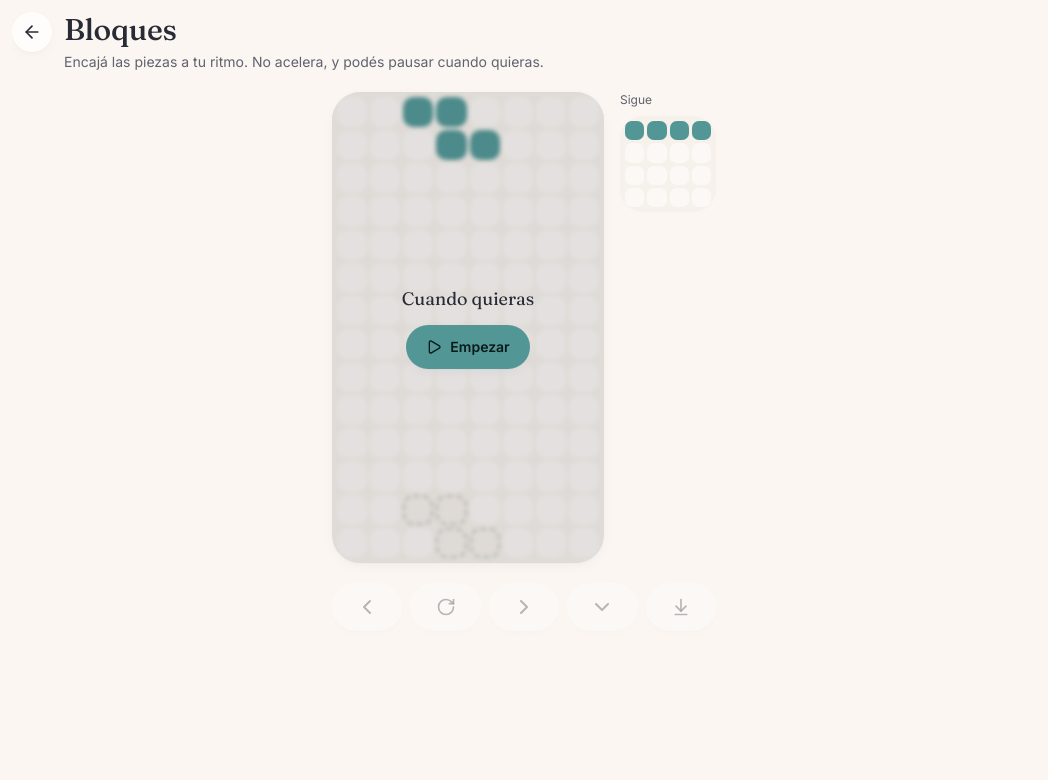
Test case: BlocksGamePage › falls at a constant pace once started
Click the button "Empezar": (468, 347) [406, 325, 530, 369]
Wait 2550 ms
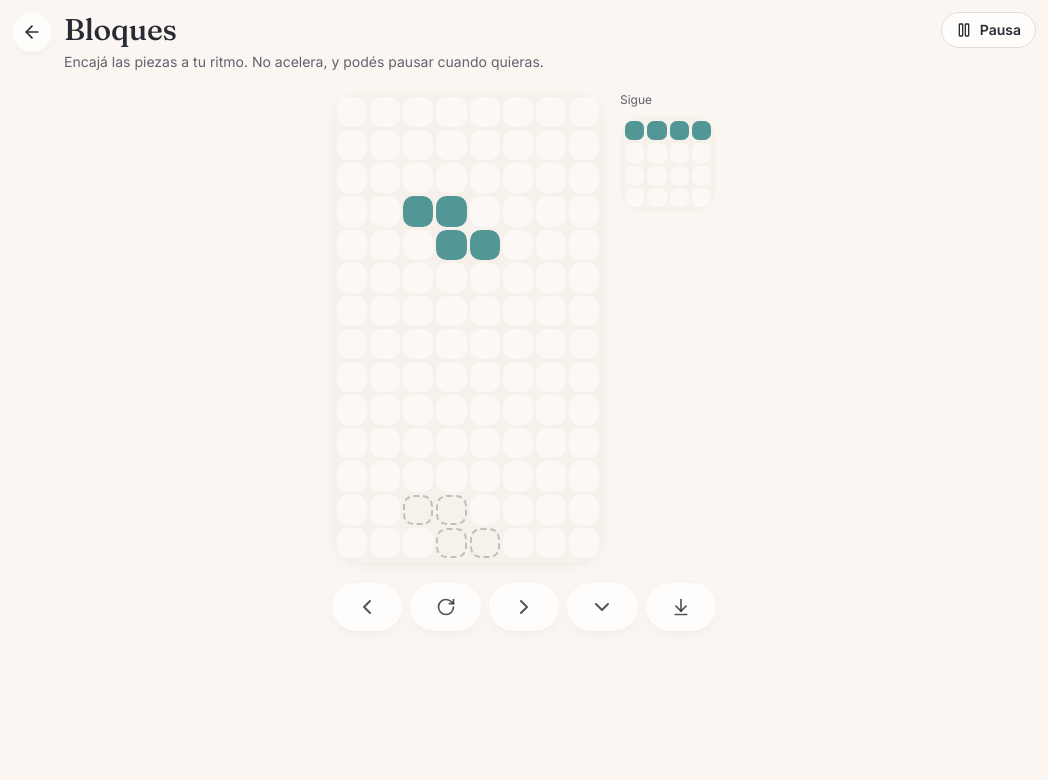
Check: the button named "Mover a la izquierda" is enabled, box [332, 583, 402, 631]
